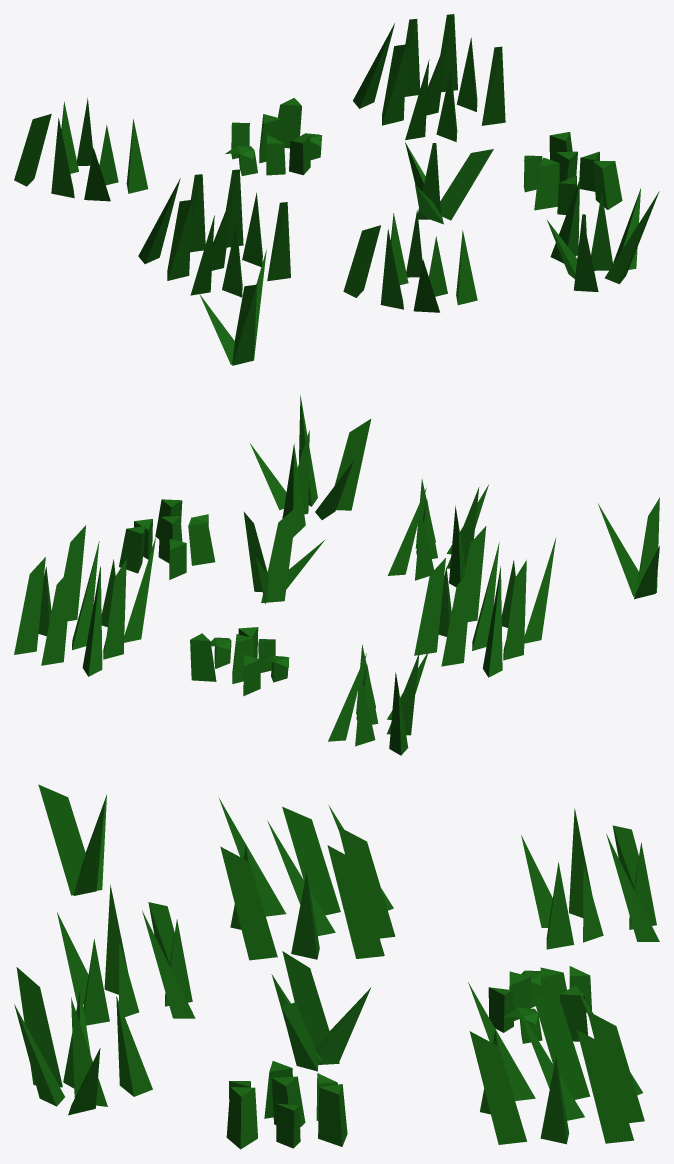
File: GrassTileFlat.obj
3 views of the same model, one above another, from view 1: azimuth 30°, elevation 25°; view 2: azimuth 150°, elevation 25°; view 3: azimuth 270°, elevation 25° (orthographic). The views are drawn at different scales.
Parts seen in each view (by area): view 1: GrassBunch1_Circle.022; view 2: GrassBunch1_Circle.022; view 3: GrassBunch1_Circle.022.
Boxes of the visible parts, left/top/right/bottom form: GrassBunch1_Circle.022: left=14, top=14, right=659, bottom=365; GrassBunch1_Circle.022: left=14, top=395, right=659, bottom=755; GrassBunch1_Circle.022: left=14, top=784, right=659, bottom=1149.
Size of the model in its own units: 0.8568 by 0.1684 by 0.8448.
